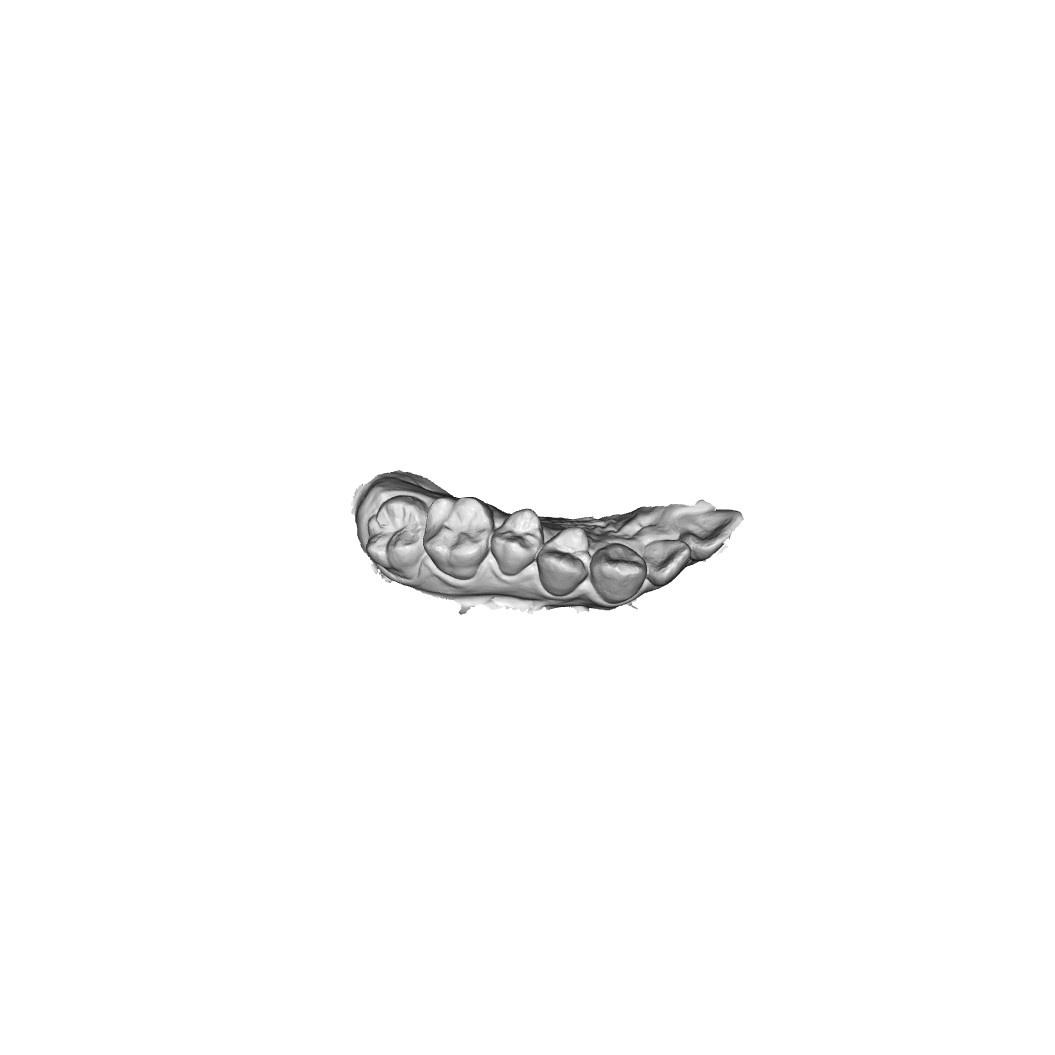canine: (591, 538, 649, 604)
incisor: (677, 509, 740, 561), (642, 541, 689, 590)
molar: (423, 492, 493, 576), (361, 493, 428, 579)
premolar: (540, 525, 593, 598), (487, 509, 539, 574)
